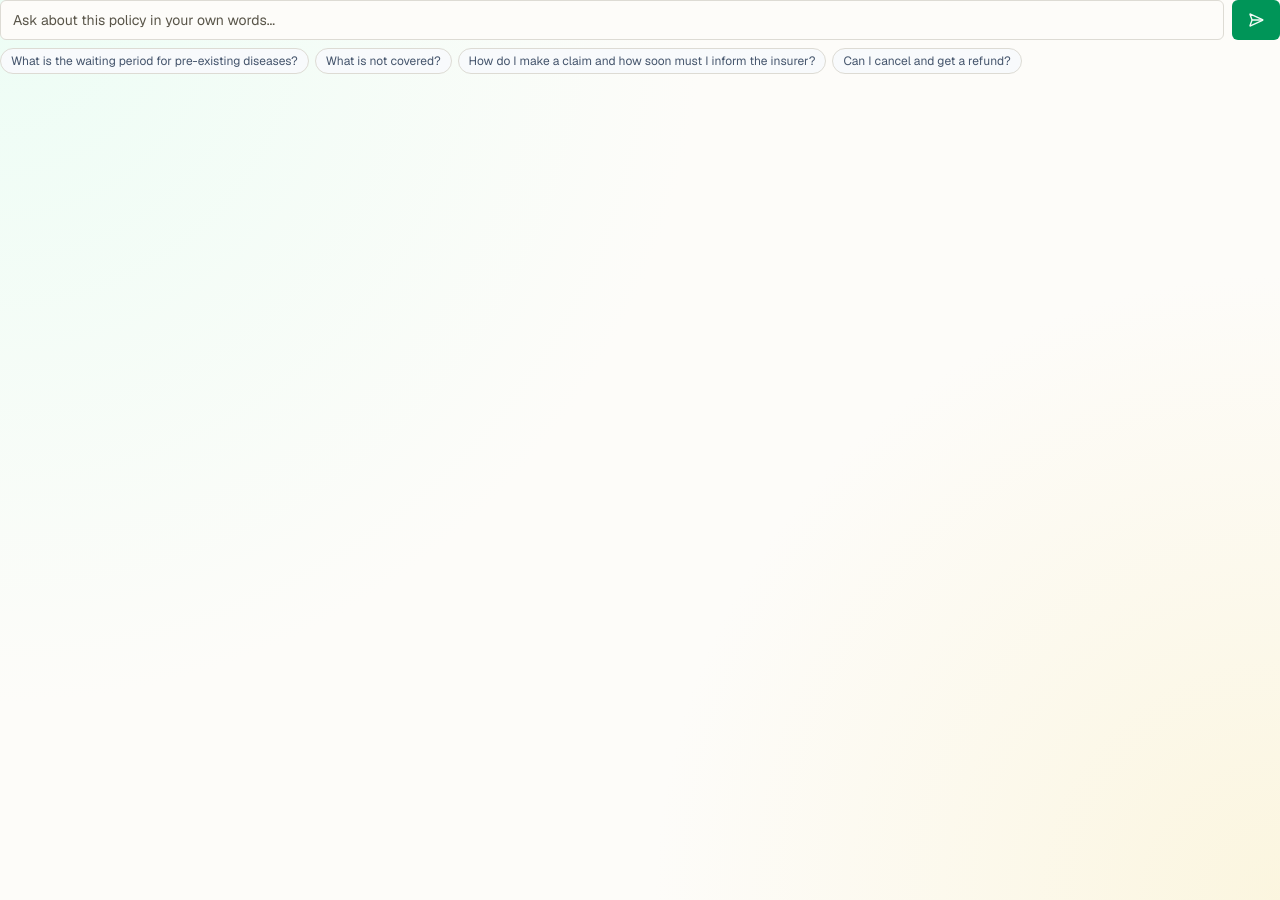
Scenario: policy Q&A interface › sends the question with the chosen documents and no extra data
Type "What is excluded?" into the field with placeholder "Ask about this policy in your own words...".
click(612, 20); type("What is excluded?")  # box left=0, top=0, right=1224, bottom=40
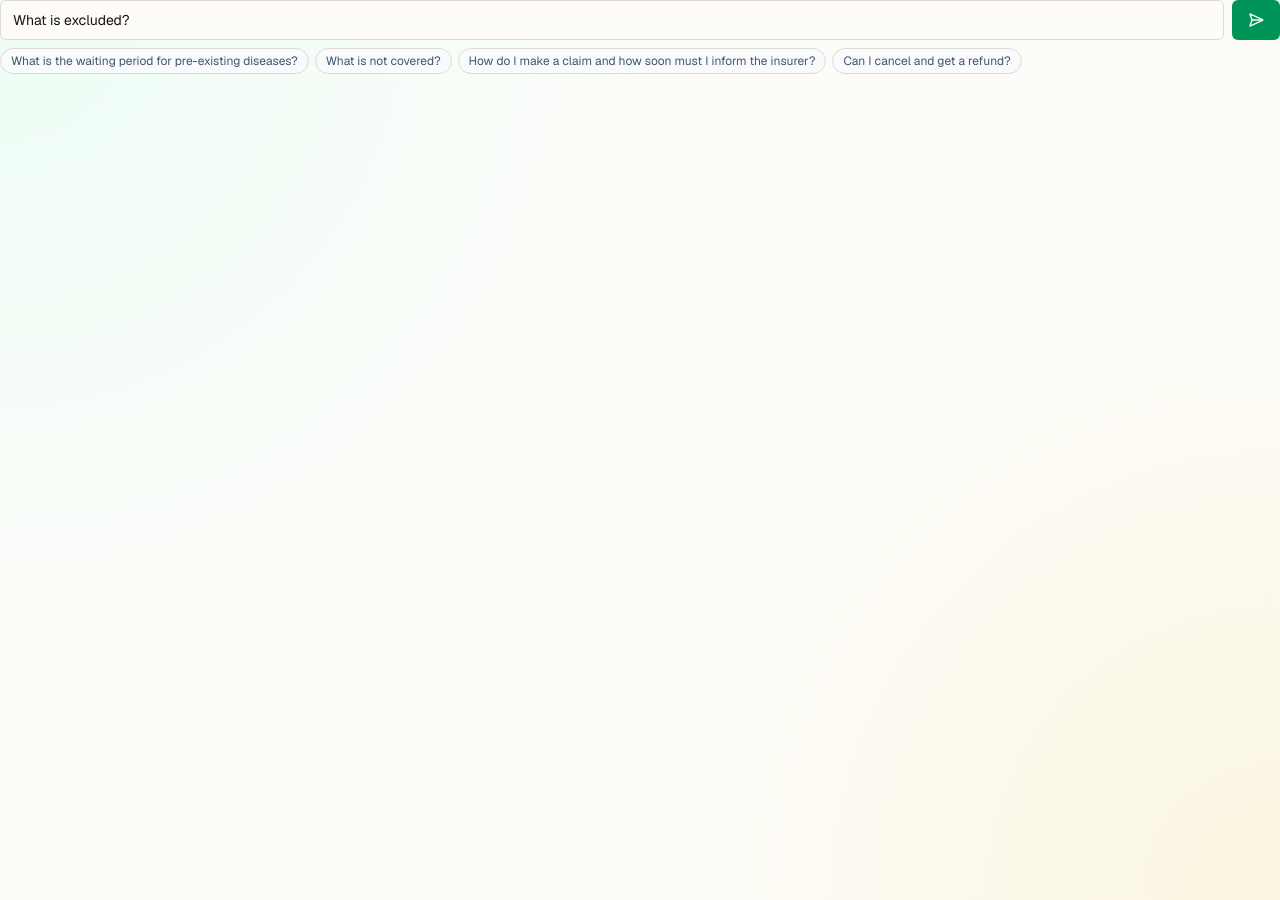
Click the button named "Ask".
click(1256, 20)  # box left=1232, top=0, right=1279, bottom=40
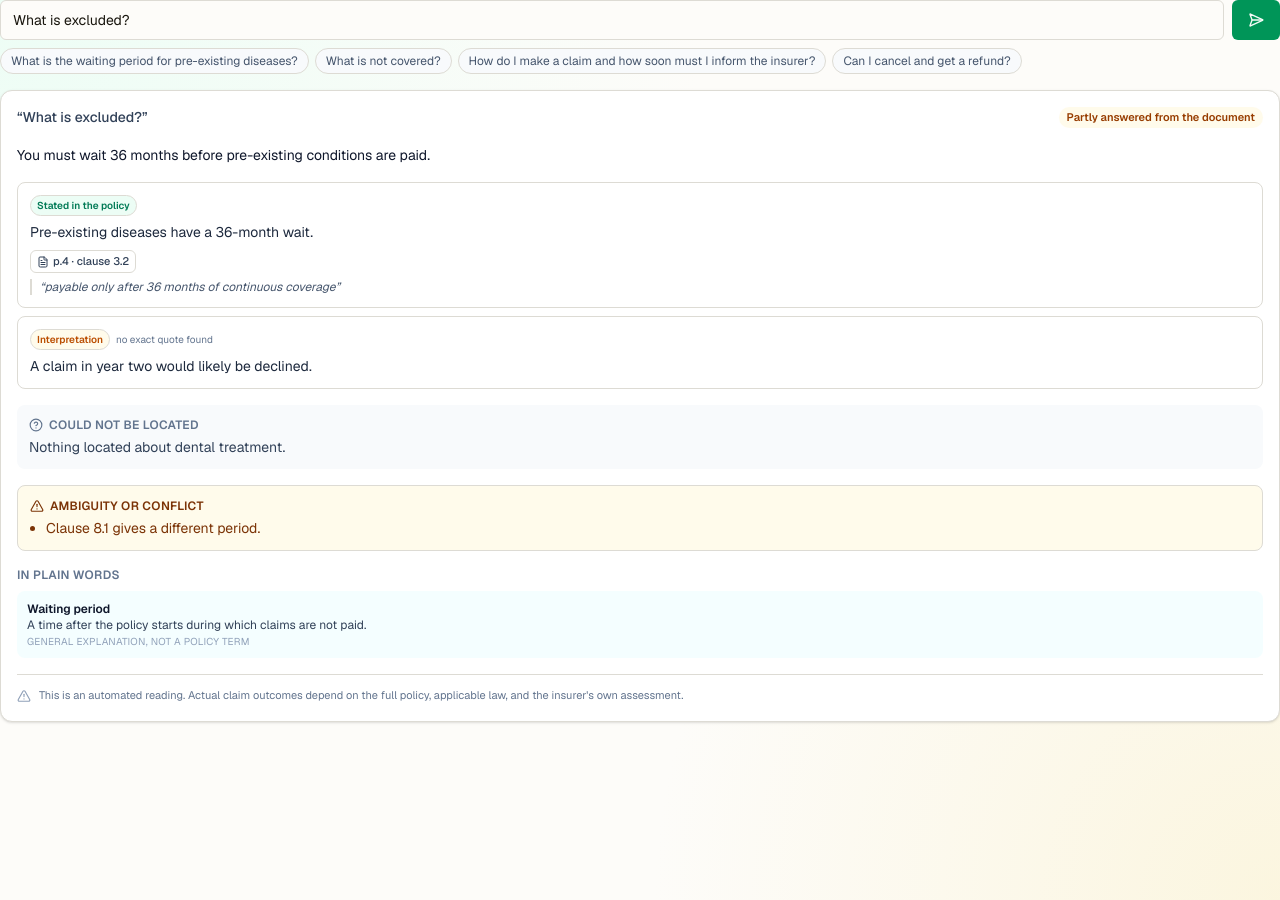
Expected: the text "Partly answered from the document" is shown, left=1059, top=107, right=1263, bottom=128
